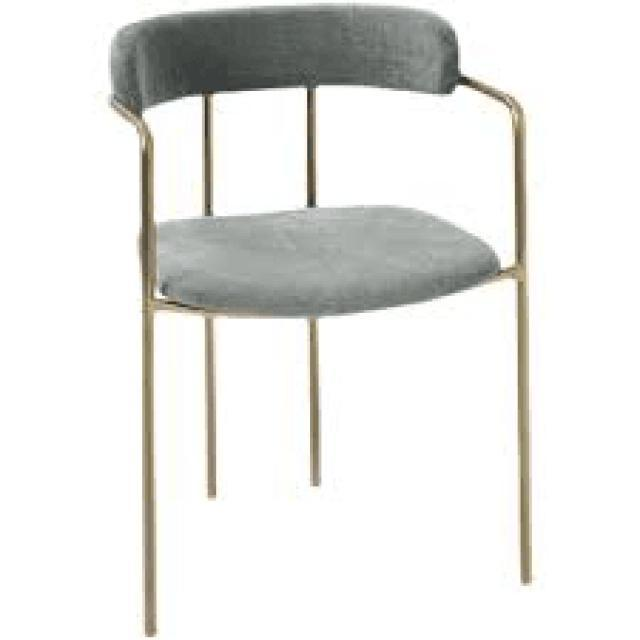chair: (99, 0, 541, 640), (88, 0, 513, 300)
